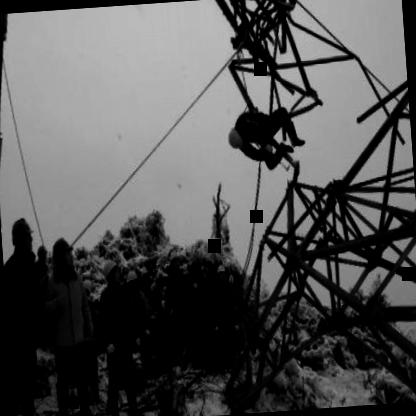helmet: (50, 235, 79, 280), (11, 216, 35, 257), (98, 256, 124, 292), (228, 124, 250, 152), (124, 265, 140, 294), (170, 250, 184, 274), (215, 261, 228, 286)
